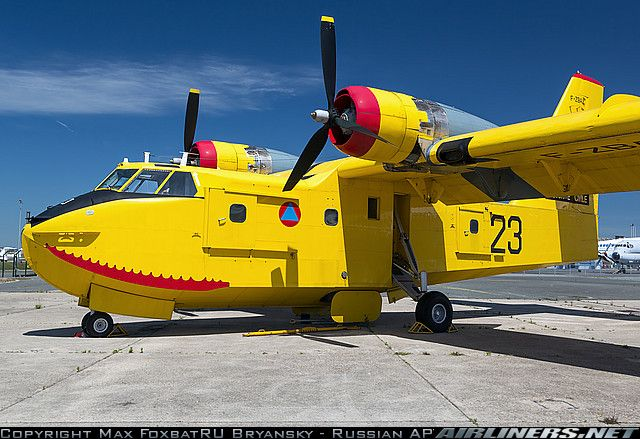Aeronef_de_service: (13, 8, 640, 348)
